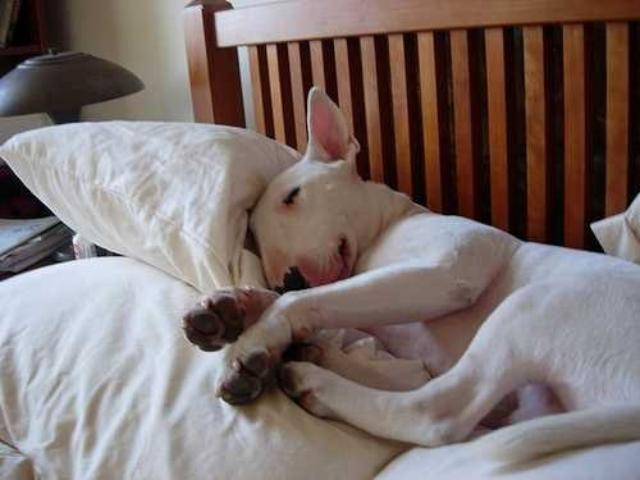pillow: (0, 120, 304, 294)
